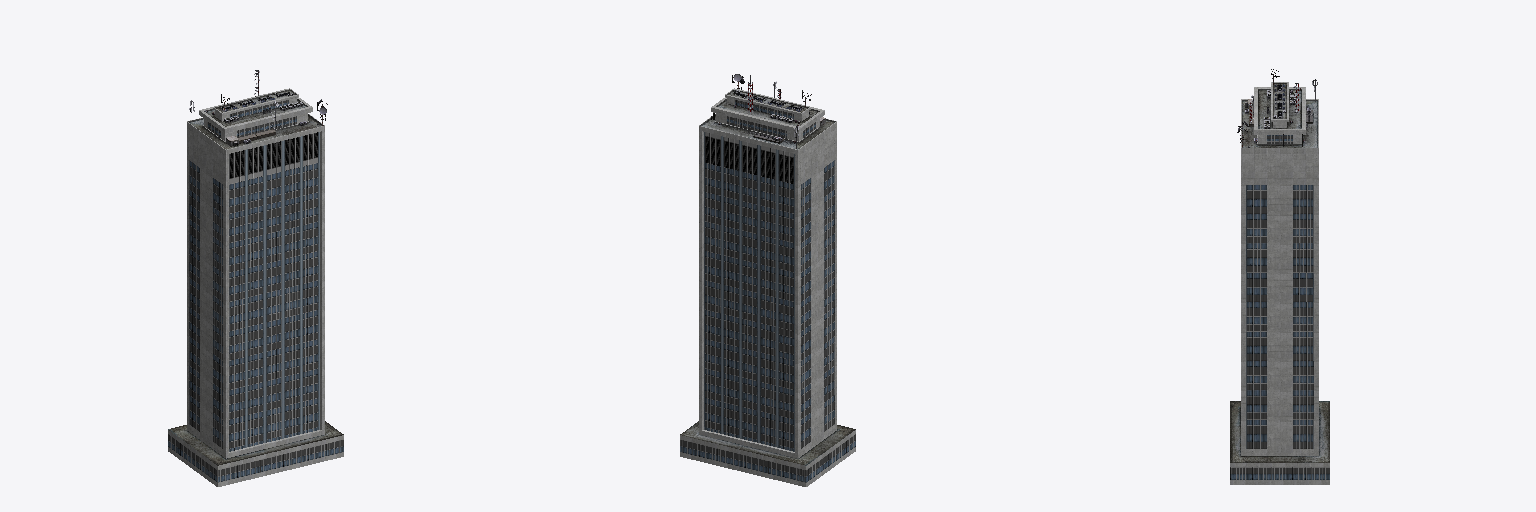
3 renders of one model, left to right at view 1: azimuth 30°, elevation 25°; view 2: azimuth 150°, elevation 25°; view 3: azimuth 270°, elevation 25°, orthographic.
Parts seen in each view (by area): view 1: Box01, Object01; view 2: Box01, Object01; view 3: Box01, Object01.
Part boxes in pixels (bbox=[...]): Box01: bbox=[168, 88, 343, 486]; Object01: bbox=[205, 92, 327, 146]; Box01: bbox=[680, 88, 855, 486]; Object01: bbox=[711, 74, 825, 143]; Box01: bbox=[1230, 82, 1329, 484]; Object01: bbox=[1237, 69, 1312, 147].
Bounding box in the file's own units: 34.87 × 104 × 23.83.
Materials: 3 (3 with a texture image).